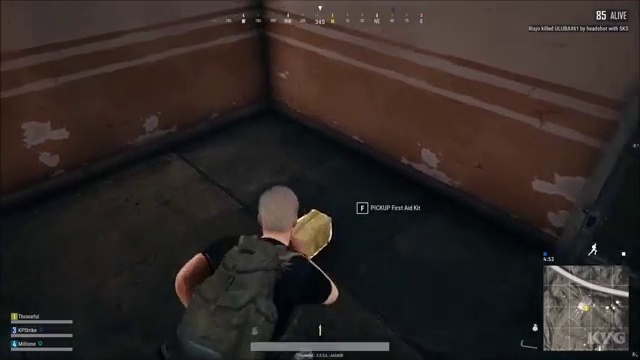Player: (164, 182, 343, 318)
